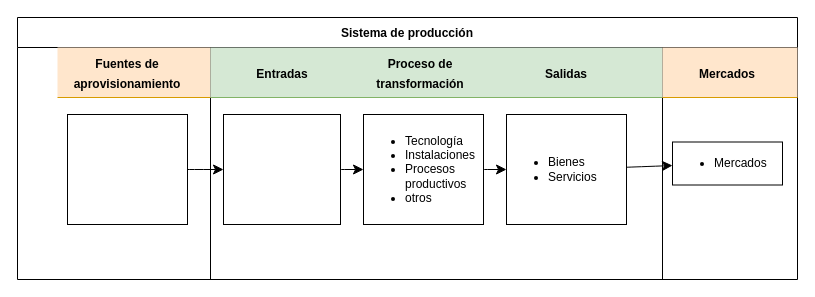
This 815x297 diagram has some shape labels left out. Each missing label, with the centre of its shape:
"Mano de obra Energía Capital Materias primas Otros" goes at (281,169).
"Trabajadores Directivos Proveedores Acreedores OTros" goes at (127,169).
